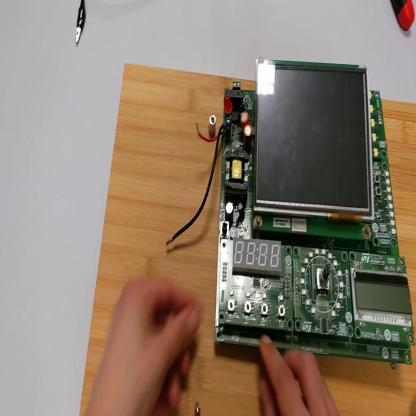hand: (92, 270, 201, 416), (258, 333, 342, 415)
low voltage board: (167, 57, 416, 366)
pliers: (391, 3, 416, 33)
working area: (76, 67, 415, 416)
